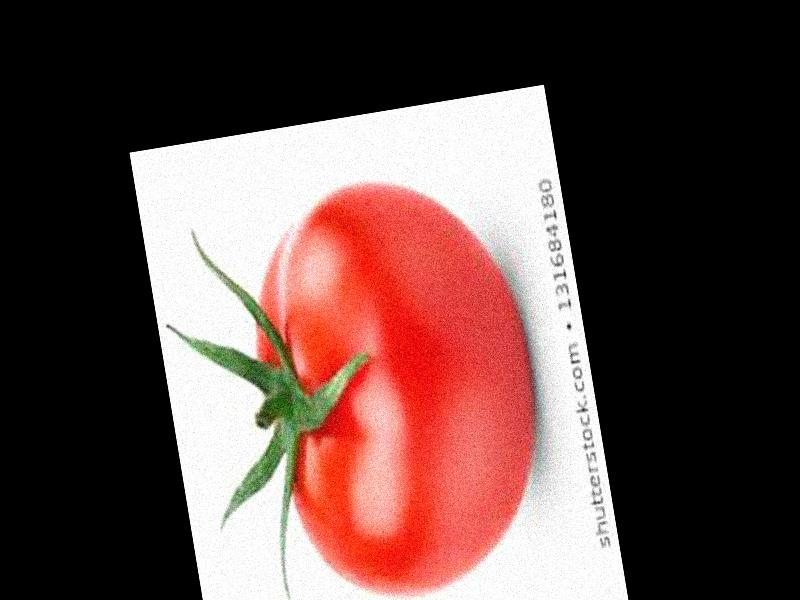Tomato: (234, 161, 559, 600)
